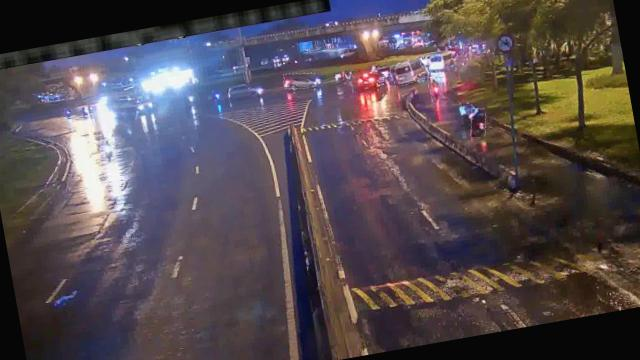Bike: (468, 107, 489, 138), (98, 136, 118, 164), (428, 75, 444, 104)
Bus: (389, 56, 428, 86), (423, 50, 451, 72)
Car: (283, 70, 318, 90)
